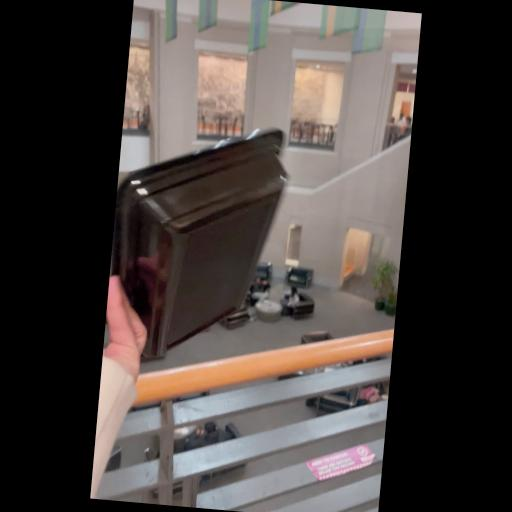rigid_plastic_container: (104, 116, 292, 368)
